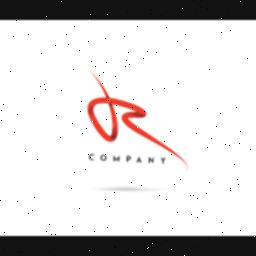r: (83, 66, 179, 152)
